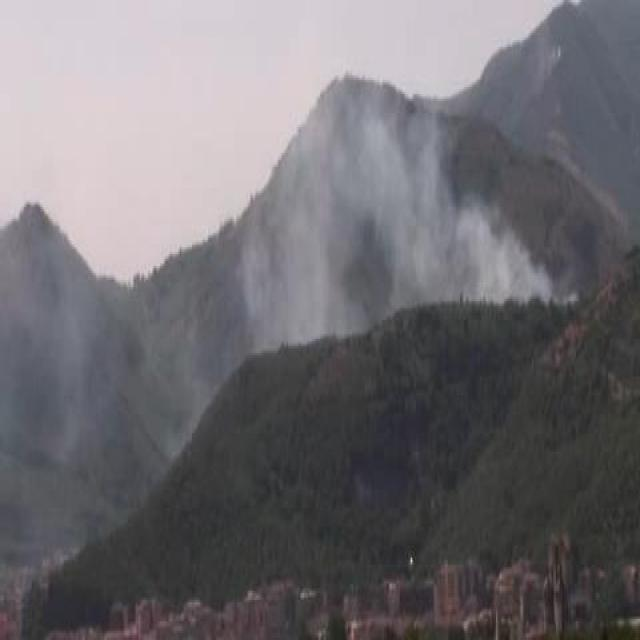Smoke: (293, 92, 547, 304)
